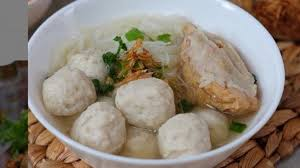bakso: (37, 7, 256, 153)
